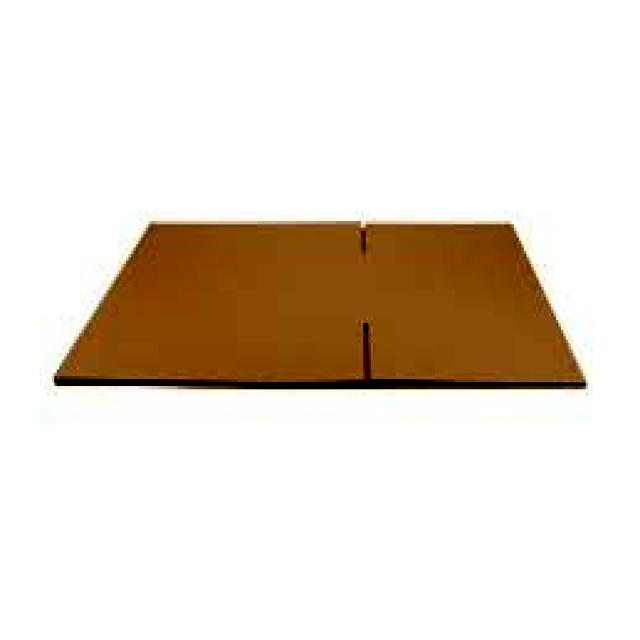cardboard: (45, 215, 593, 383)
